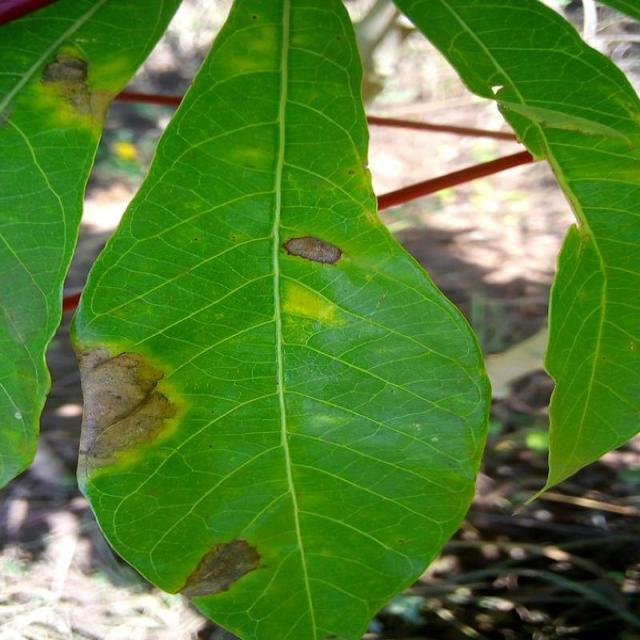cassava leaf: (68, 0, 493, 638), (390, 0, 639, 512), (0, 0, 182, 491)
